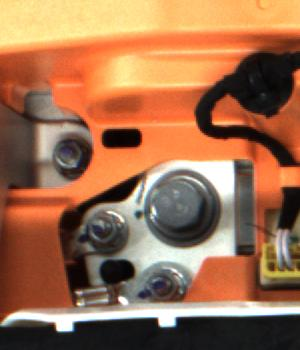nut_b: (147, 165, 227, 249)
screw_s: (141, 263, 195, 300), (77, 198, 114, 245), (47, 134, 91, 172)
